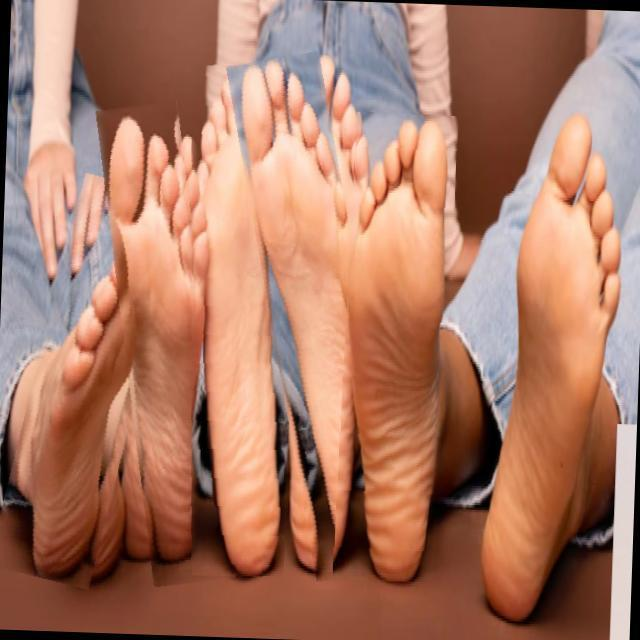Barefoots: (476, 97, 629, 621), (242, 45, 383, 594), (181, 65, 297, 574), (346, 89, 462, 588), (106, 111, 226, 577), (28, 249, 147, 576), (515, 113, 524, 123)
